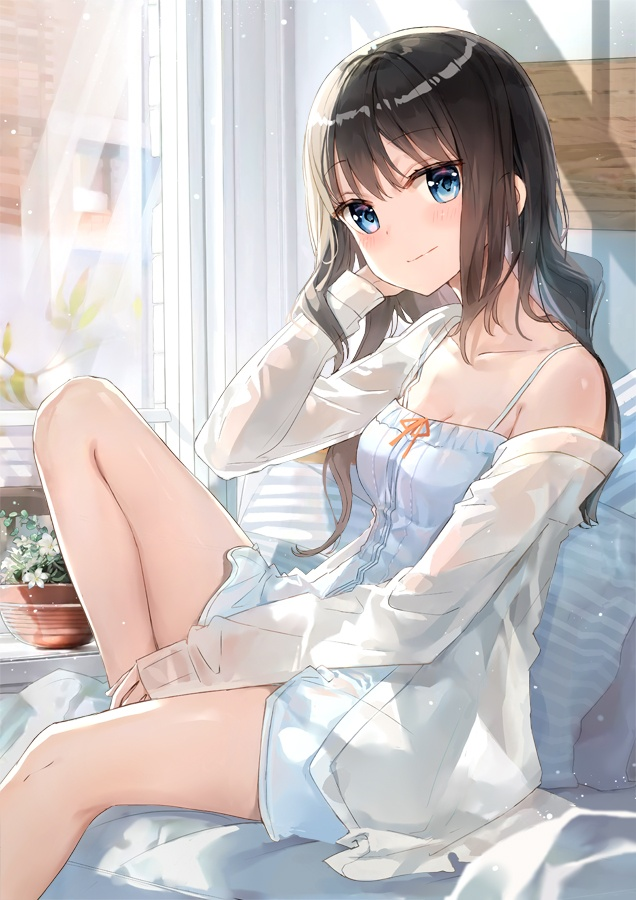纸片人正脸: (296, 21, 562, 302)
